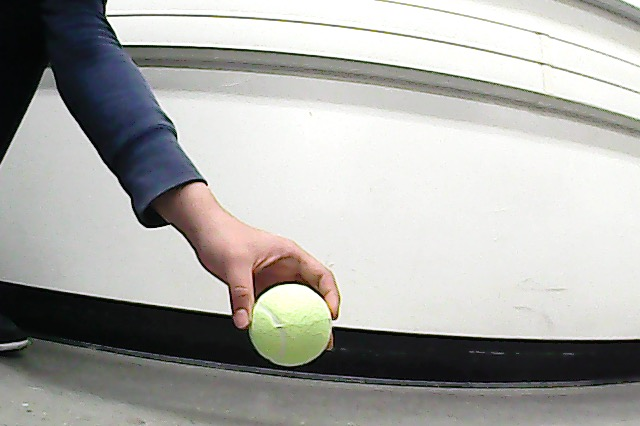ball: (246, 280, 336, 369)
